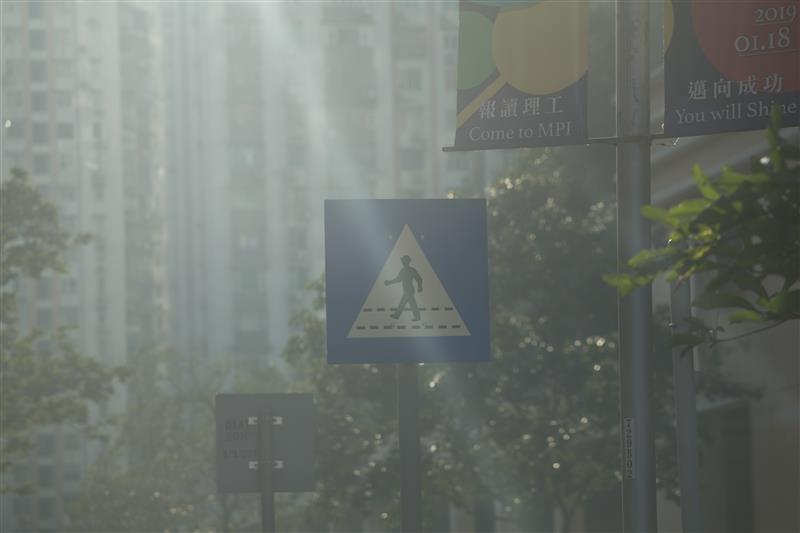pedestrianCrossing: (324, 199, 493, 363)
